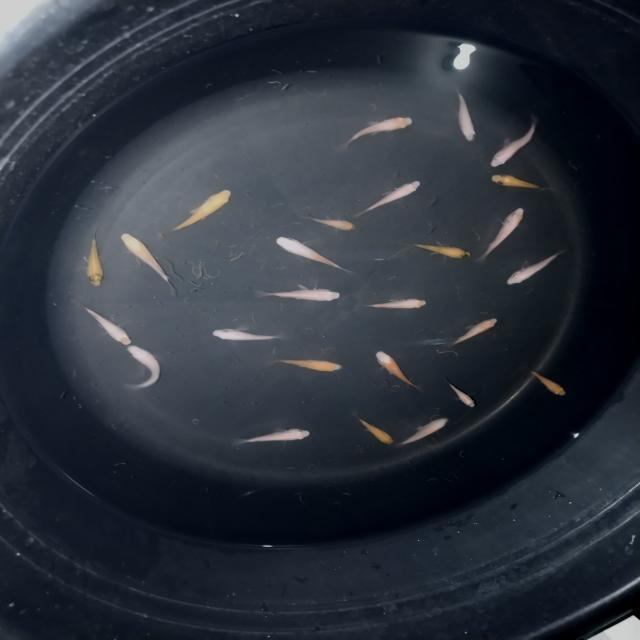nila: (118, 232, 181, 296), (273, 236, 359, 276), (166, 188, 234, 235), (478, 206, 532, 261), (336, 114, 416, 150), (355, 177, 427, 217), (74, 298, 134, 346), (486, 118, 542, 169), (503, 250, 568, 286), (373, 348, 421, 390), (395, 416, 452, 450), (252, 282, 346, 302), (125, 344, 164, 392), (518, 364, 571, 399), (444, 316, 500, 349), (398, 238, 478, 261), (265, 354, 345, 376), (350, 411, 397, 446), (235, 425, 312, 446), (452, 89, 479, 144), (484, 173, 558, 193), (358, 294, 428, 313), (82, 229, 104, 288), (440, 376, 478, 410), (296, 212, 362, 231), (208, 327, 292, 341)
